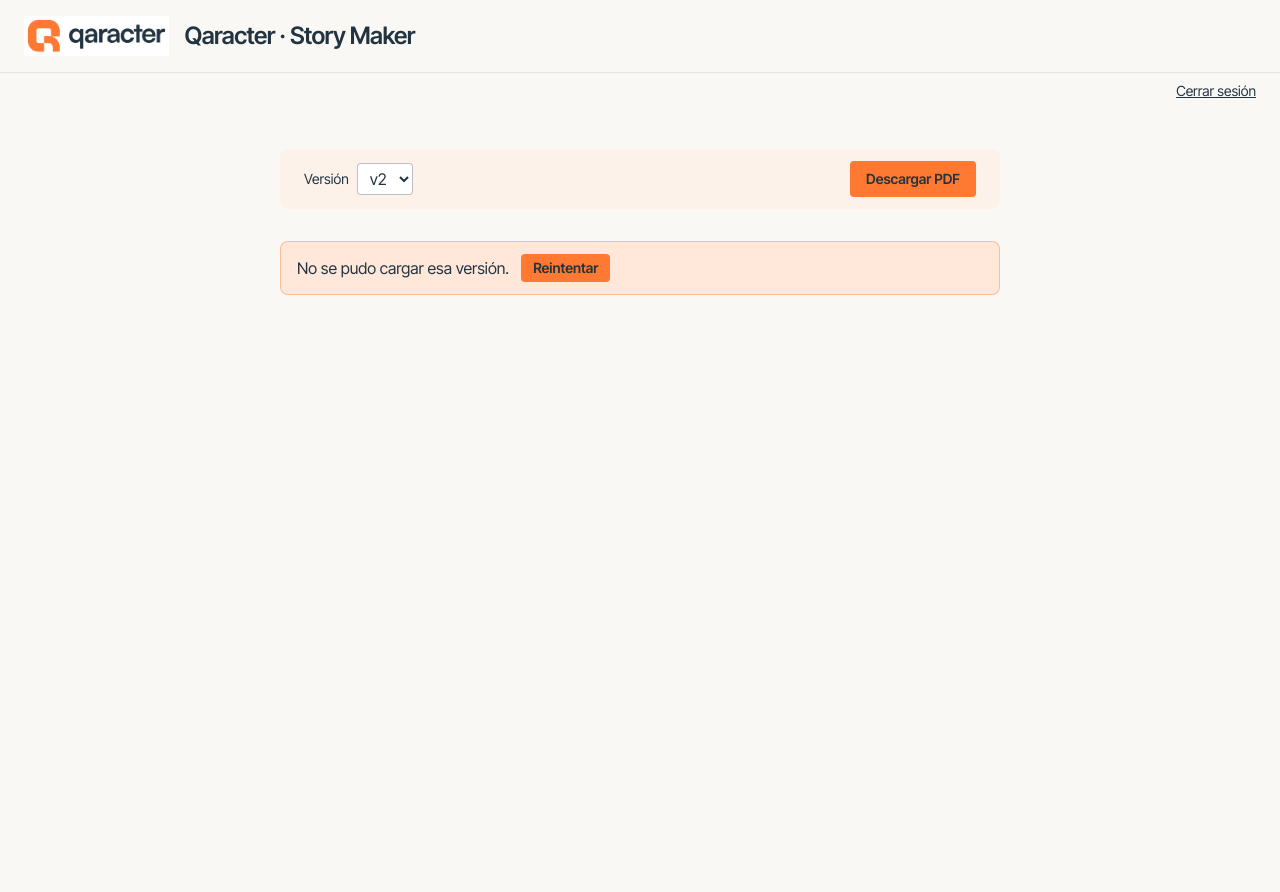
Test: 026 lectura › 026-C13: failing to load a version's detail shows an error with a retry, selector still available
Expected: the text "No se pudo cargar esa versión." is shown, [297,256,509,280]
Expected: the dropdown labelled "Versión" is shown, [357,163,413,195]
Click the button "Reintentar". click: [566, 268]
box: [521,254,610,282]
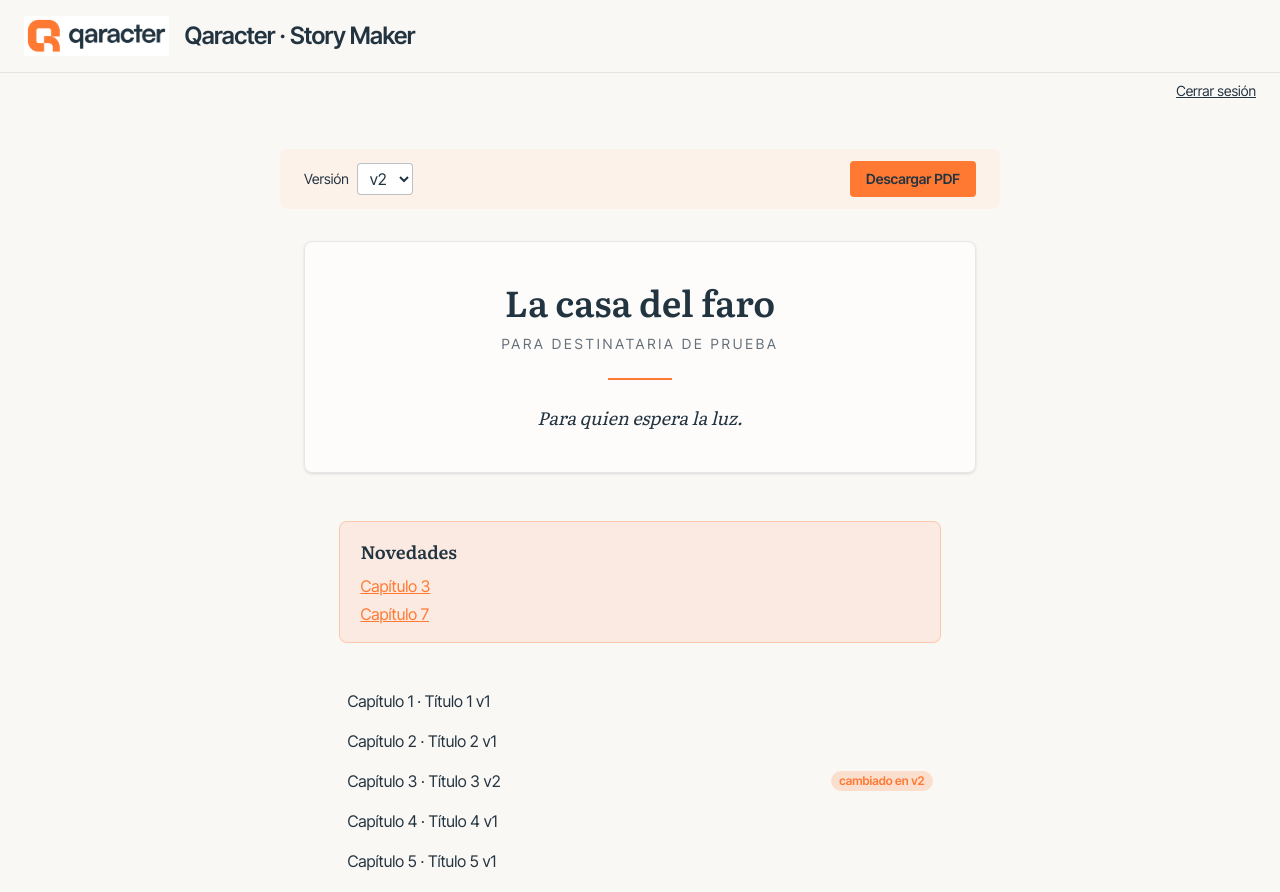
Result: the element named "Portada" is shown at [304,241,976,473]
